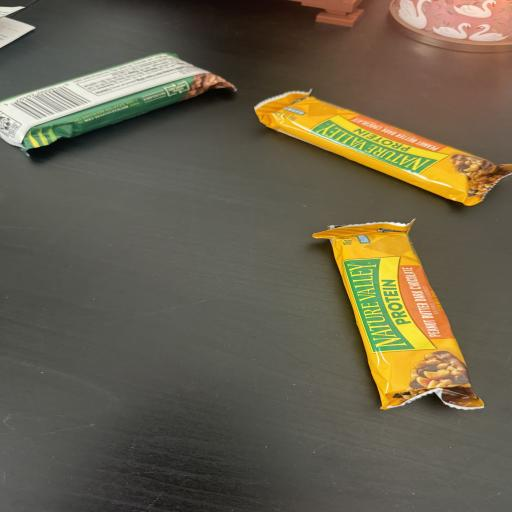granola: (313, 223, 483, 409), (255, 92, 511, 205), (0, 53, 234, 150)
